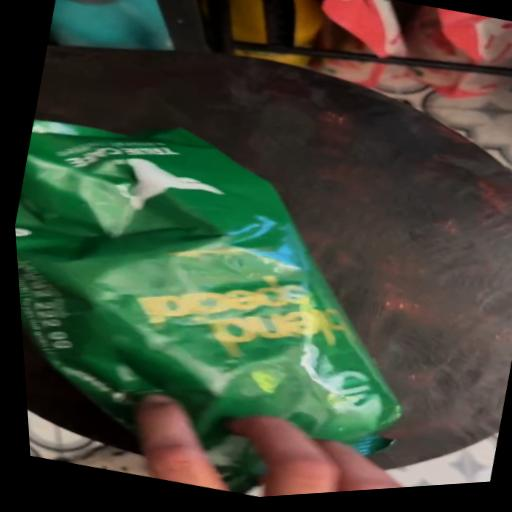cafe_xay: (15, 120, 401, 494)
